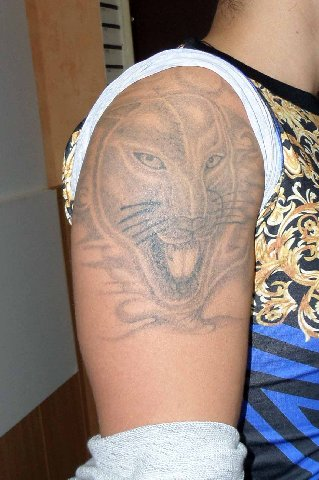tatu8_kot: (85, 76, 255, 319)
